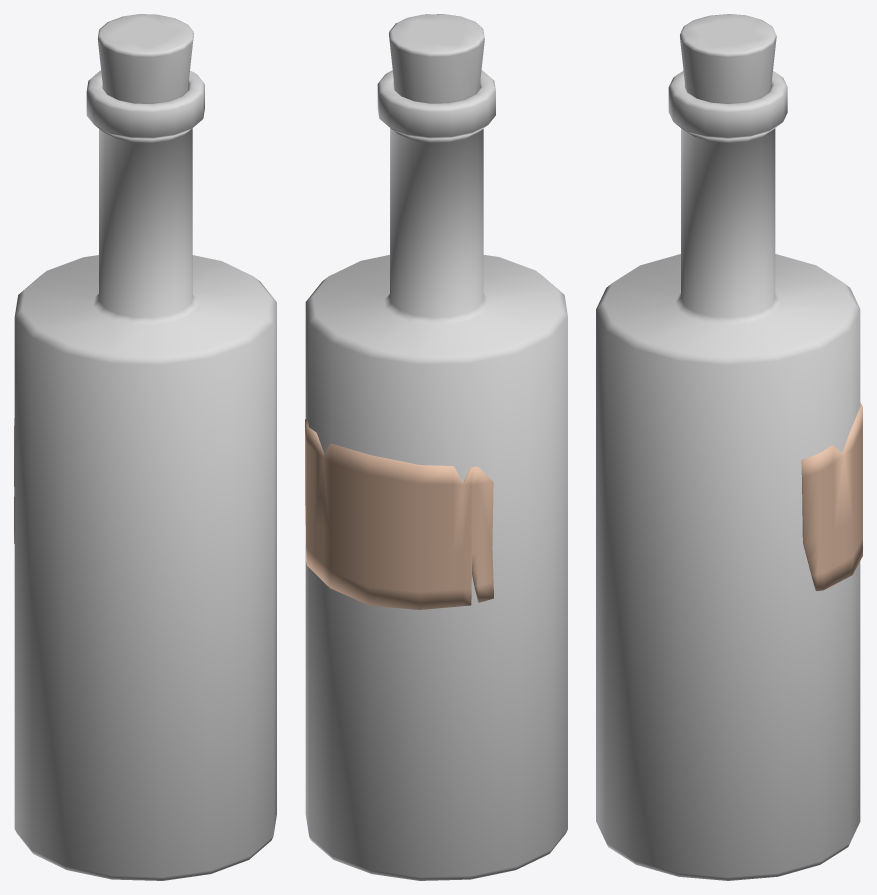
The model's file is Potion2.fbx.
The picture shows the model from 3 angles, left to right: view 1: azimuth 30°, elevation 25°; view 2: azimuth 150°, elevation 25°; view 3: azimuth 270°, elevation 25°; orthographic projection.
Parts seen in each view (by area): view 1: Potion2; view 2: Potion2; view 3: Potion2.
Boxes of the visible parts, x1=… form: Potion2: x1=14, y1=14, x2=276, y2=880; Potion2: x1=305, y1=14, x2=567, y2=880; Potion2: x1=596, y1=14, x2=862, y2=880.
Bounding box in the file's own units: 0.6681 × 2.22 × 0.6744.
